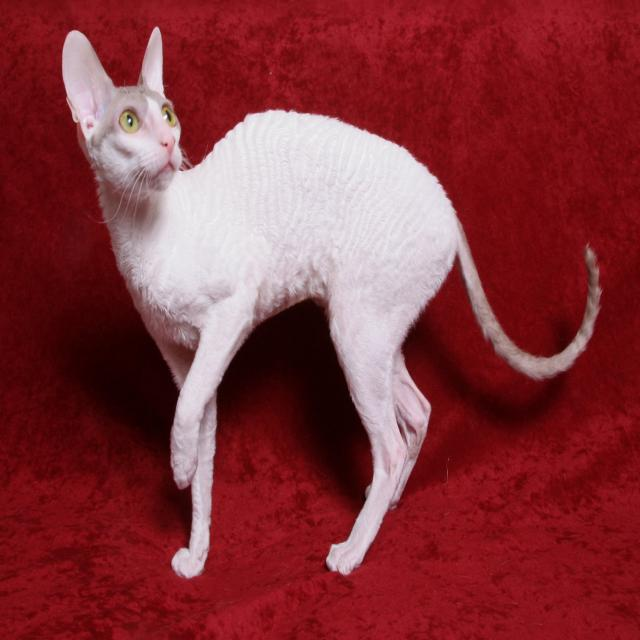Cornish Rex: (59, 19, 605, 586)
